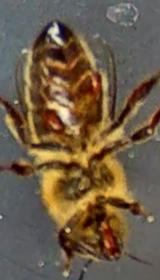varroa_mite: (81, 66, 113, 100), (38, 102, 68, 138)
